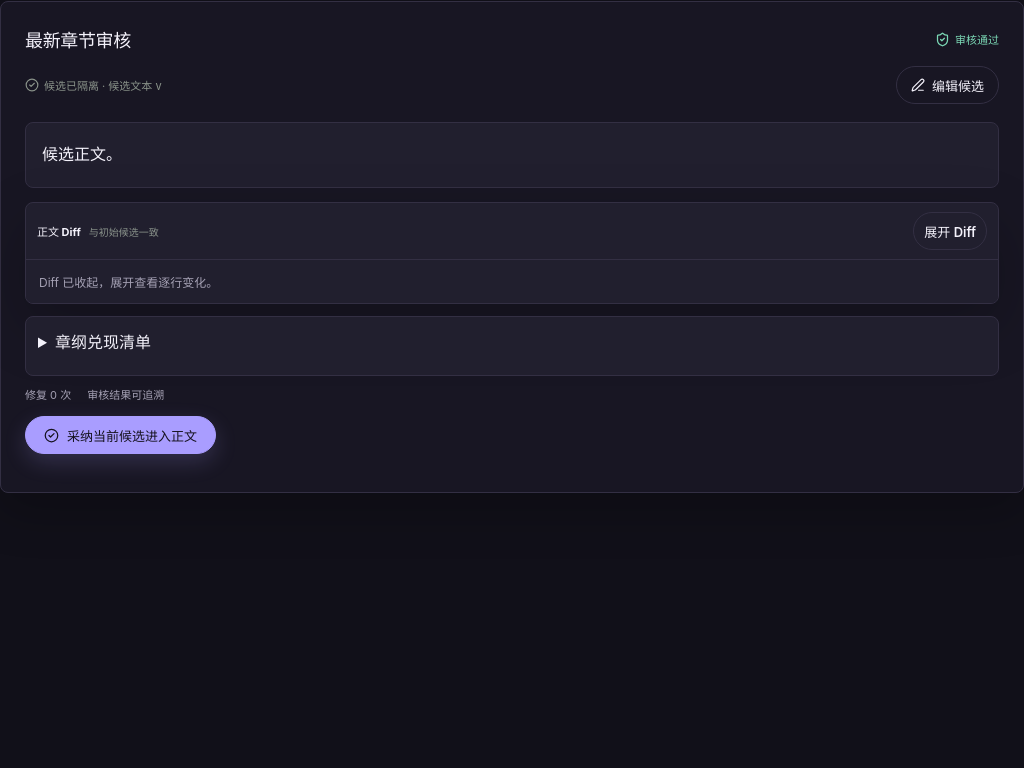
Scenario: ChapterReview memory review › keeps plan-check errors visible without blocking candidate acceptance
Click the heading "章纲兑现清单" at [103, 342], box [55,332,151,352]
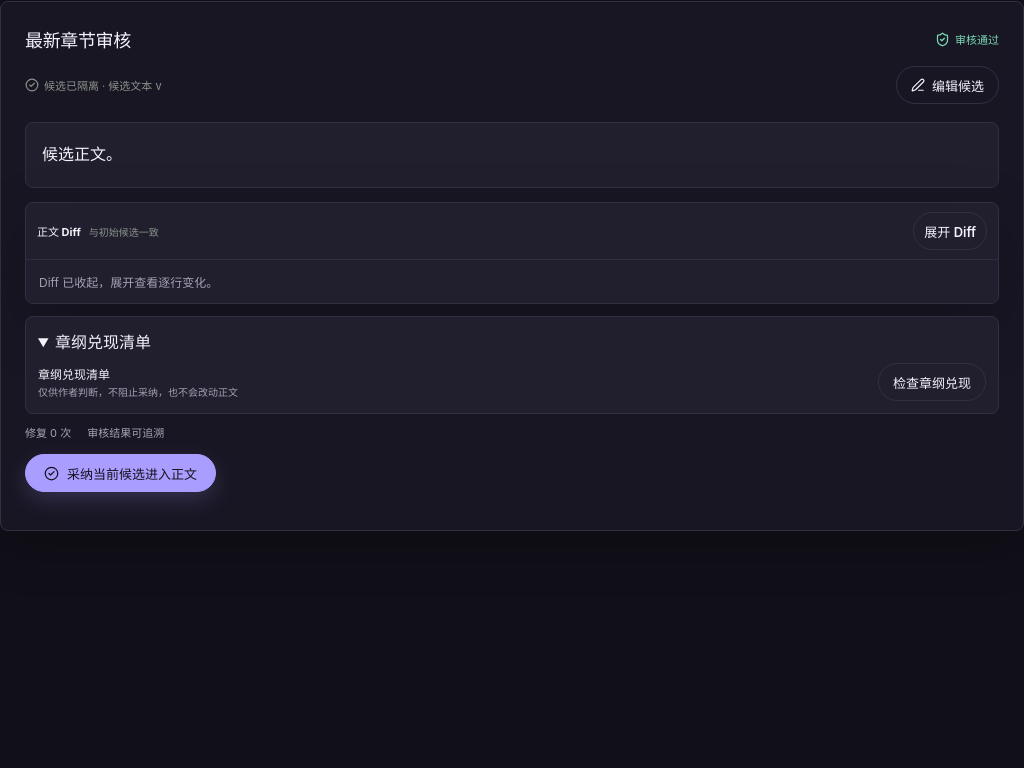
Click the button "检查章纲兑现" at [932, 382], box [878,363,986,401]
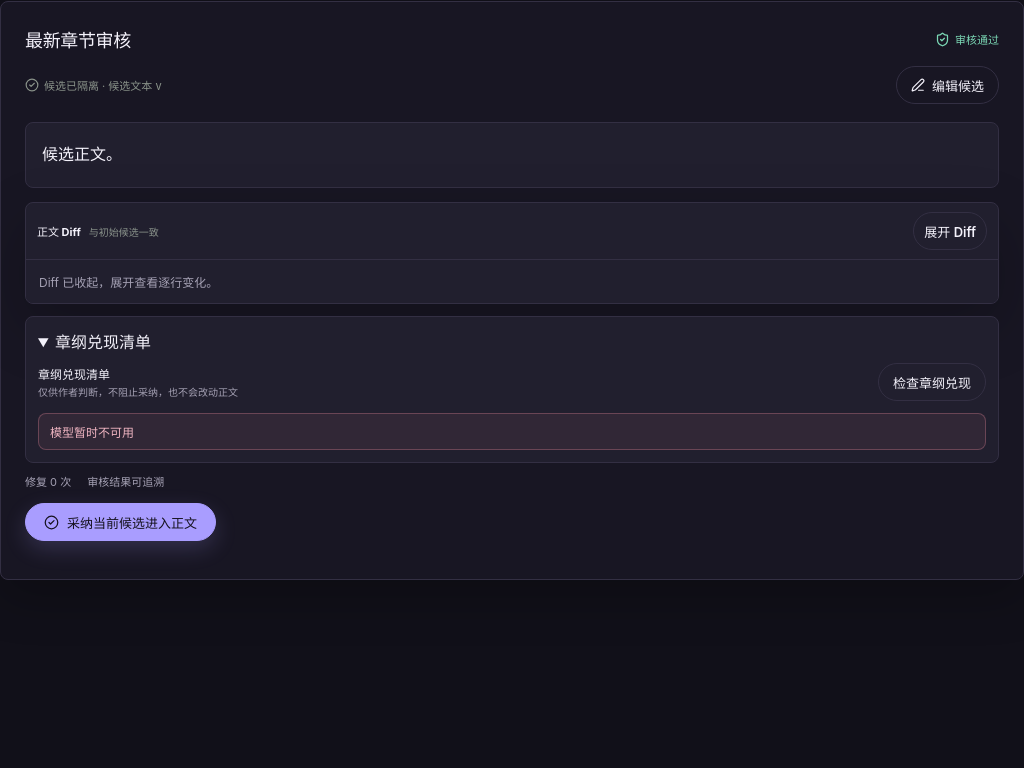
Check: the button "采纳当前候选进入正文" is enabled, box [25,503,216,541]
Check: the message reads "模型暂时不可用", box [50,425,134,440]
